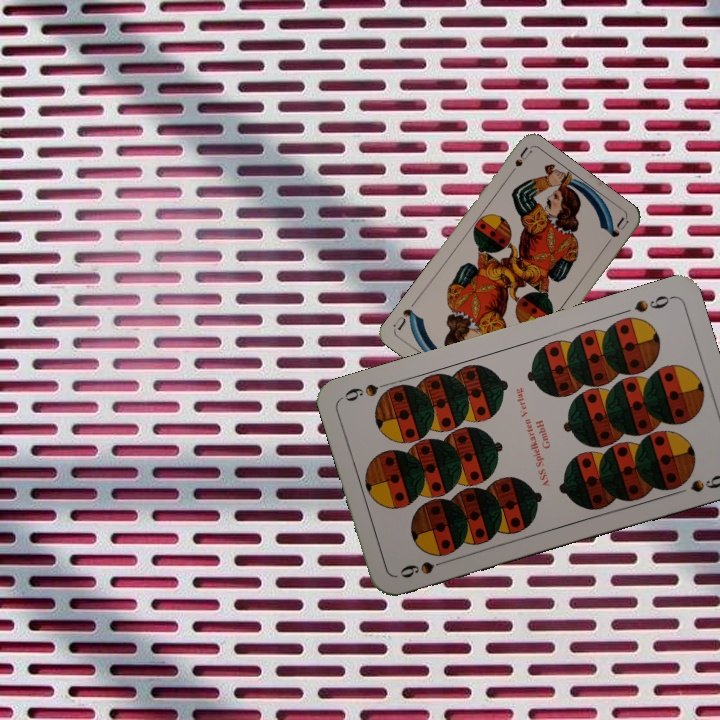S9: (396, 555, 452, 581), (630, 291, 675, 315)
SU: (503, 144, 534, 181)
